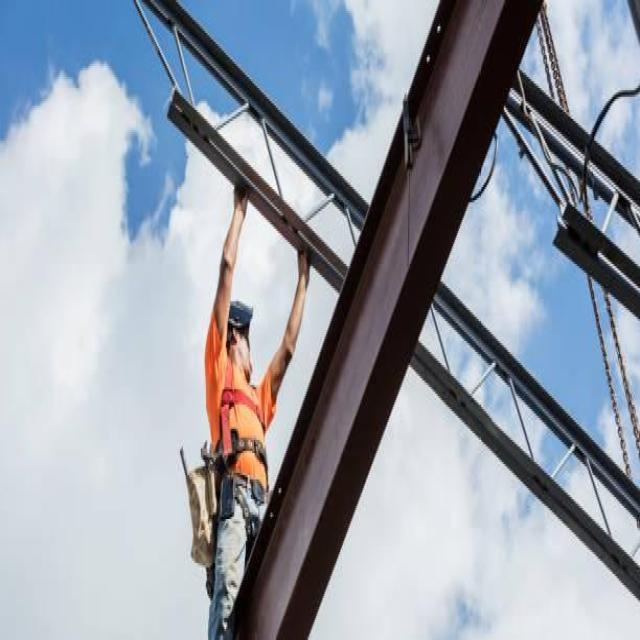Arnes_seguridad: (216, 353, 269, 546)
